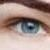eye: (22, 21, 38, 34)
